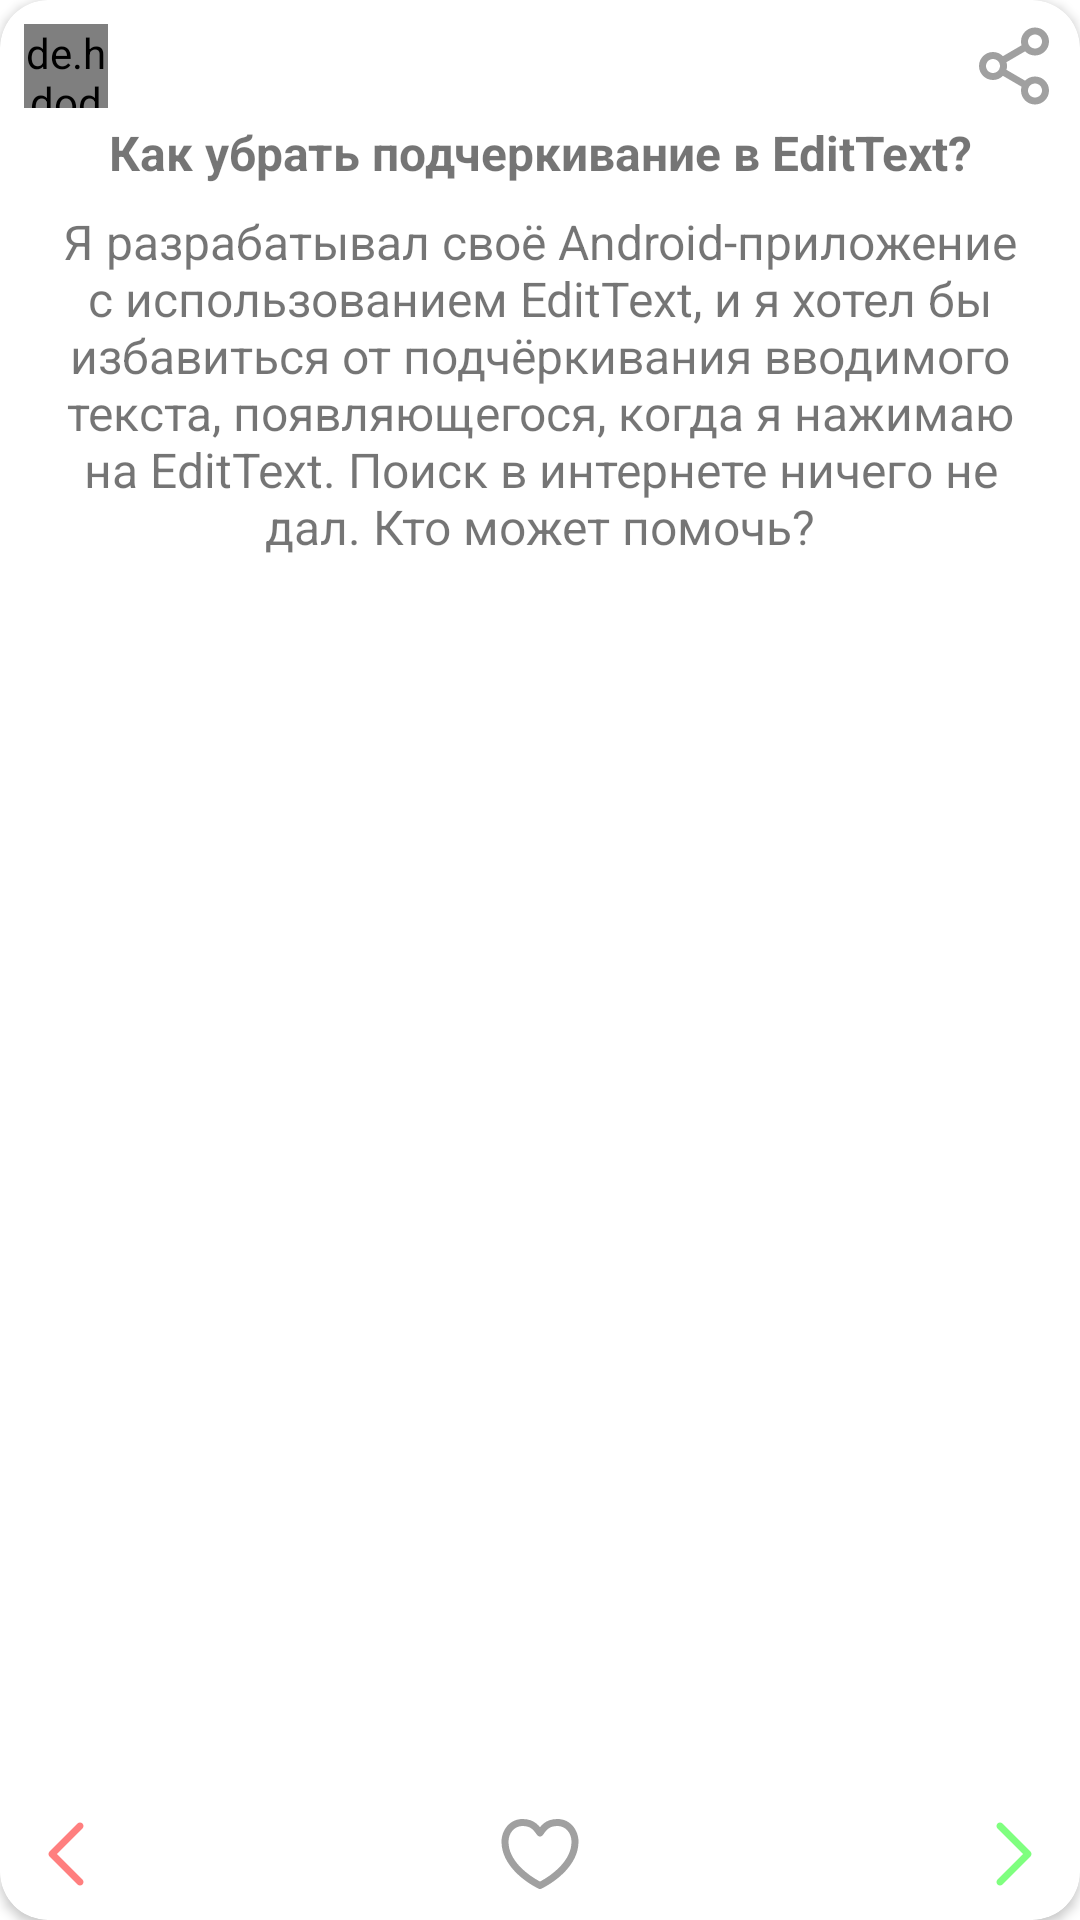

Icons on this 1080 x 1920 Android screen, each with the point to tap as (x,y):
heart: (540,1854)
share: (1014,66)
